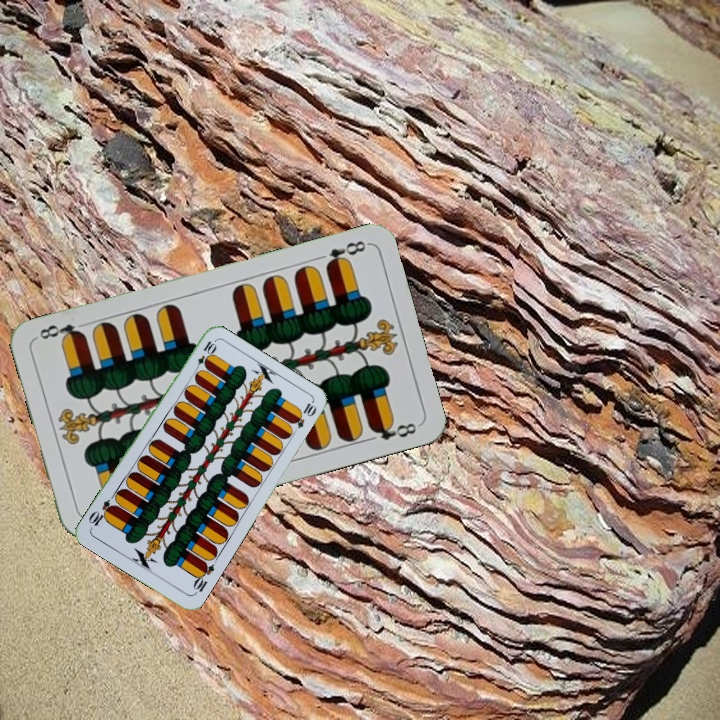E10: (189, 558, 217, 597), (190, 337, 218, 375)
E8: (321, 236, 370, 271)
